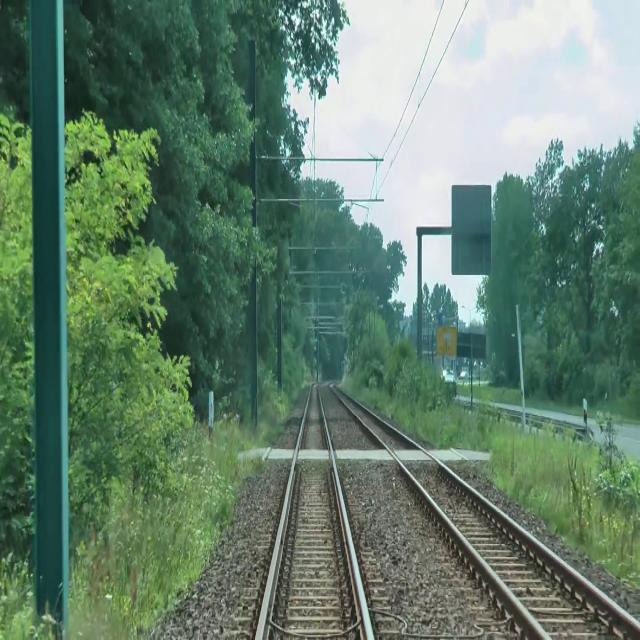rail-track: (341, 394, 640, 639), (261, 379, 367, 639)
